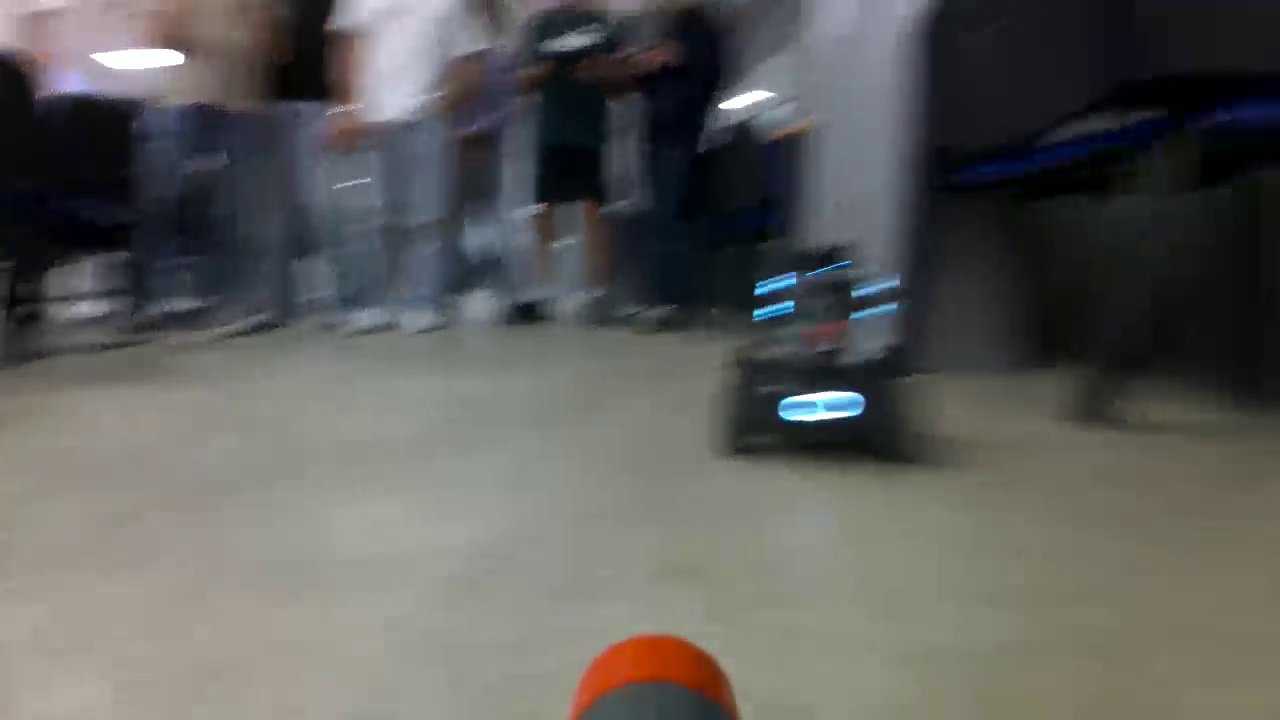robot: (735, 262, 905, 470)
